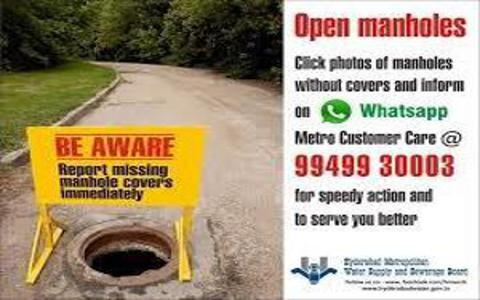open manhole: (68, 222, 174, 292)
